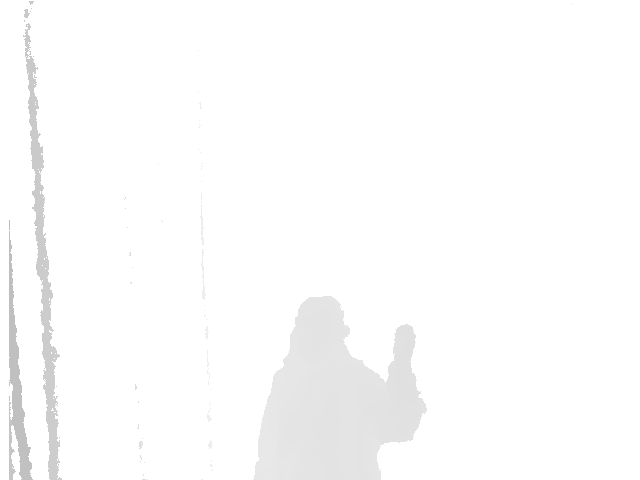head: (287, 293, 354, 370)
person: (254, 292, 427, 480)
